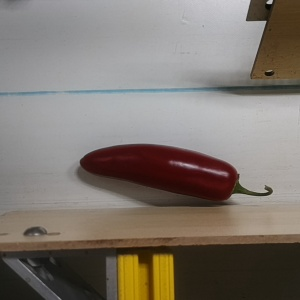Cut Point: (219, 161, 246, 204)
